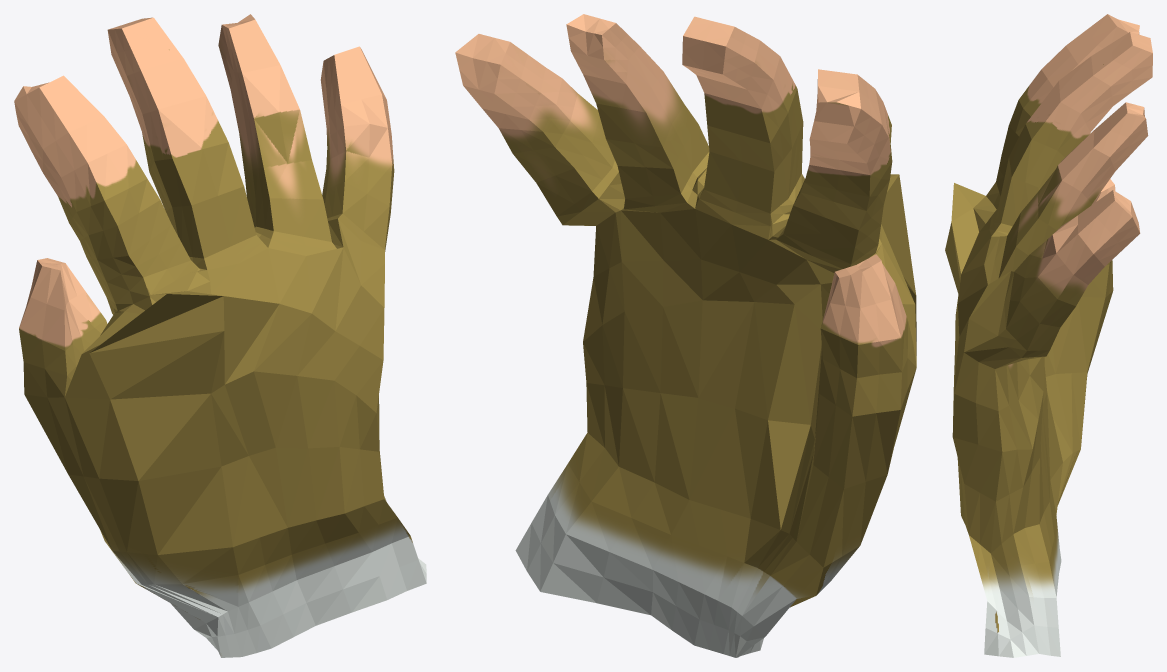
Rendered from grip0019.obj.
3 renders of one model, left to right at view 1: azimuth 30°, elevation 25°; view 2: azimuth 150°, elevation 25°; view 3: azimuth 270°, elevation 25°, orthographic. The views are drawn at different scales.
Visible parts, largest first — view 1: Hand; view 2: Hand; view 3: Hand.
Boxes of the visible parts, bbox=[...] form: Hand: bbox=[14, 14, 426, 657]; Hand: bbox=[455, 14, 916, 657]; Hand: bbox=[945, 14, 1152, 657].
Bounding box in the file's own units: 2.97 × 4.6 × 1.54.
